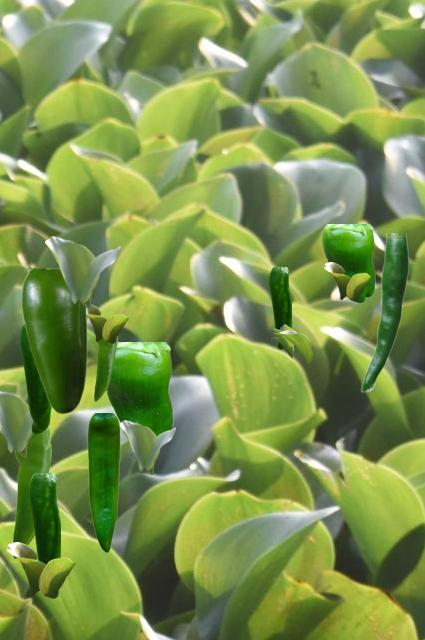green_chili: (22, 268, 86, 413), (360, 233, 407, 391), (105, 342, 172, 444), (12, 427, 50, 557), (87, 413, 119, 551), (321, 224, 374, 302), (20, 324, 50, 433), (29, 473, 59, 563), (269, 267, 290, 348), (94, 339, 116, 400)
